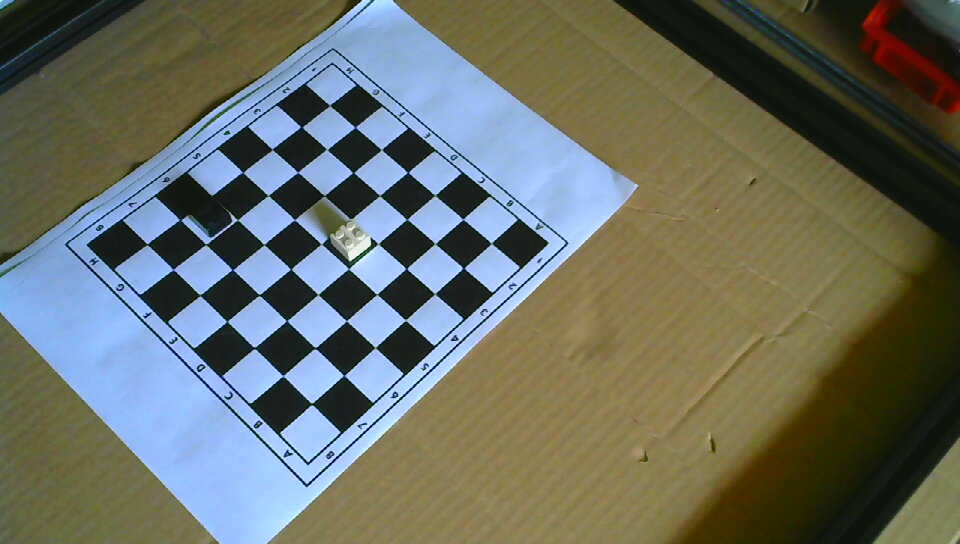bp: (190, 196, 232, 236)
wp: (327, 216, 373, 263)
